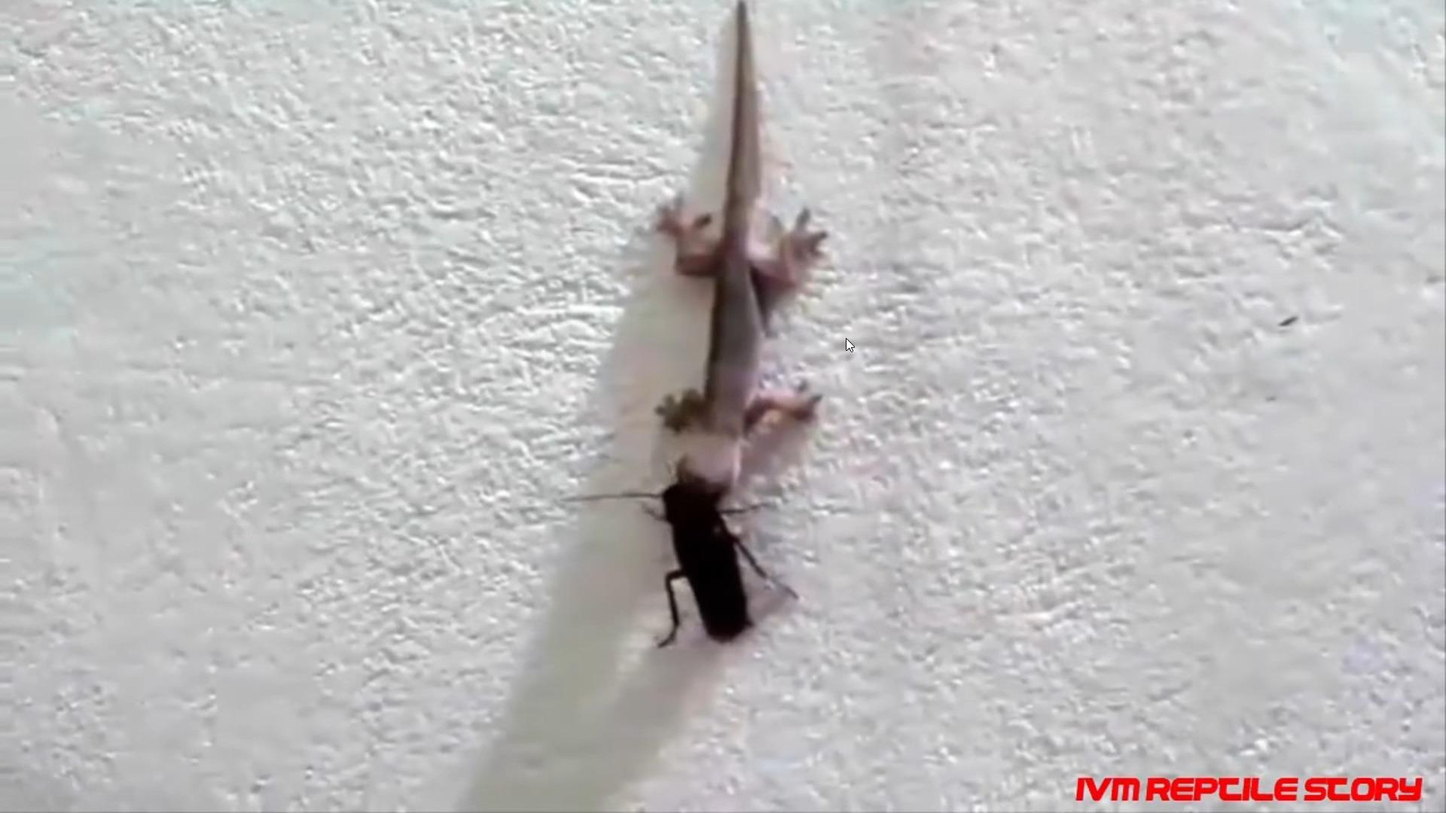cockroach: (608, 480, 785, 649)
lizard: (638, 54, 836, 492)
